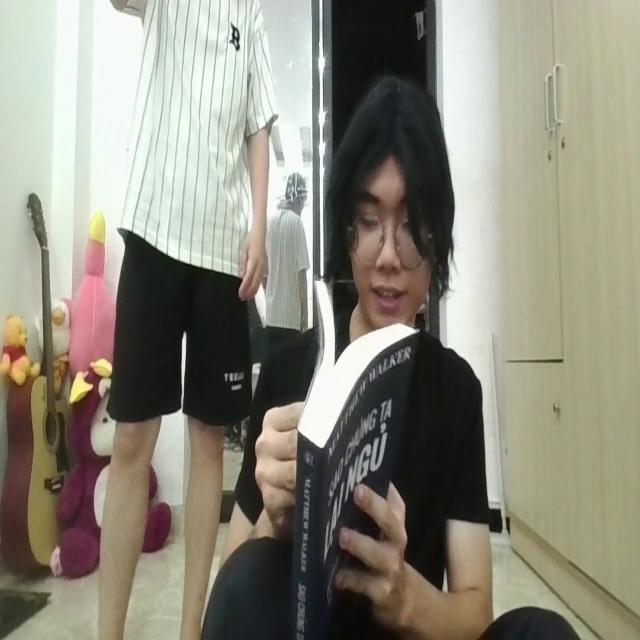book: (296, 270, 414, 640)
extra_person: (91, 0, 272, 640)
student: (234, 77, 496, 640)
